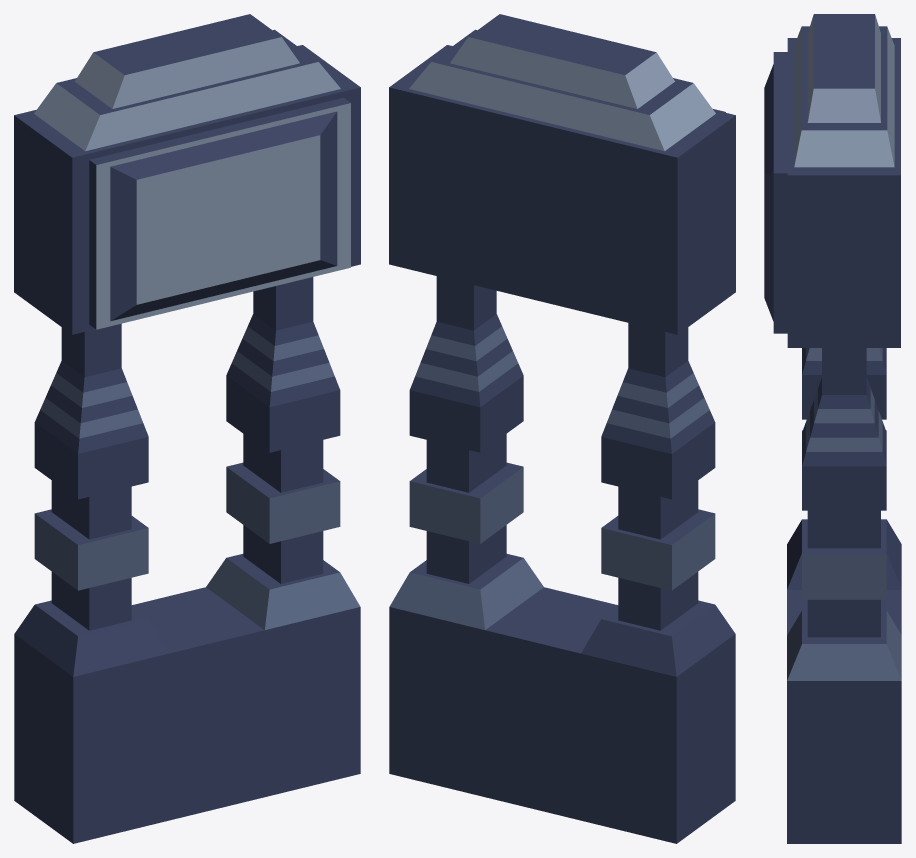
Rendered from GRAVESTONE.fbx.
3 renders of one model, left to right at view 1: azimuth 30°, elevation 25°; view 2: azimuth 150°, elevation 25°; view 3: azimuth 270°, elevation 25°, orthographic. The views are drawn at different scales.
Parts seen in each view (by area): view 1: Cube; view 2: Cube; view 3: Cube.
Part boxes in pixels (box(x1,y1,x2,y2)): Cube: box(14, 14, 360, 843); Cube: box(389, 14, 735, 843); Cube: box(764, 14, 901, 843).
Bounding box in the file's own units: 213 × 523 × 90.09.
